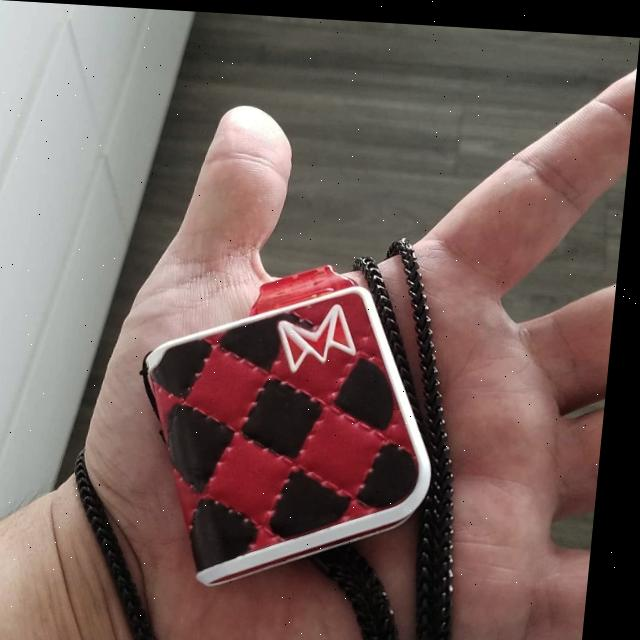vape: (129, 251, 460, 593)
